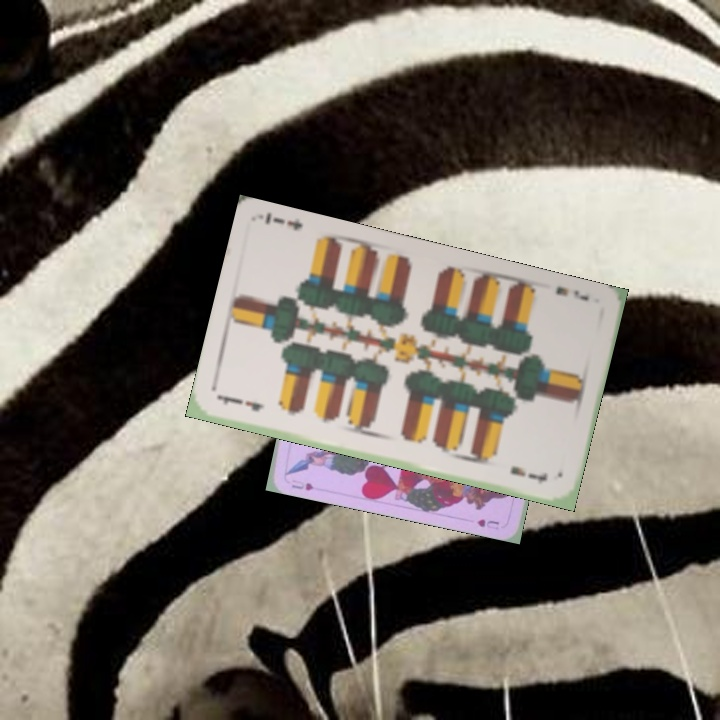E7: (215, 391, 267, 414), (552, 282, 592, 304)
HU: (288, 475, 316, 493)
